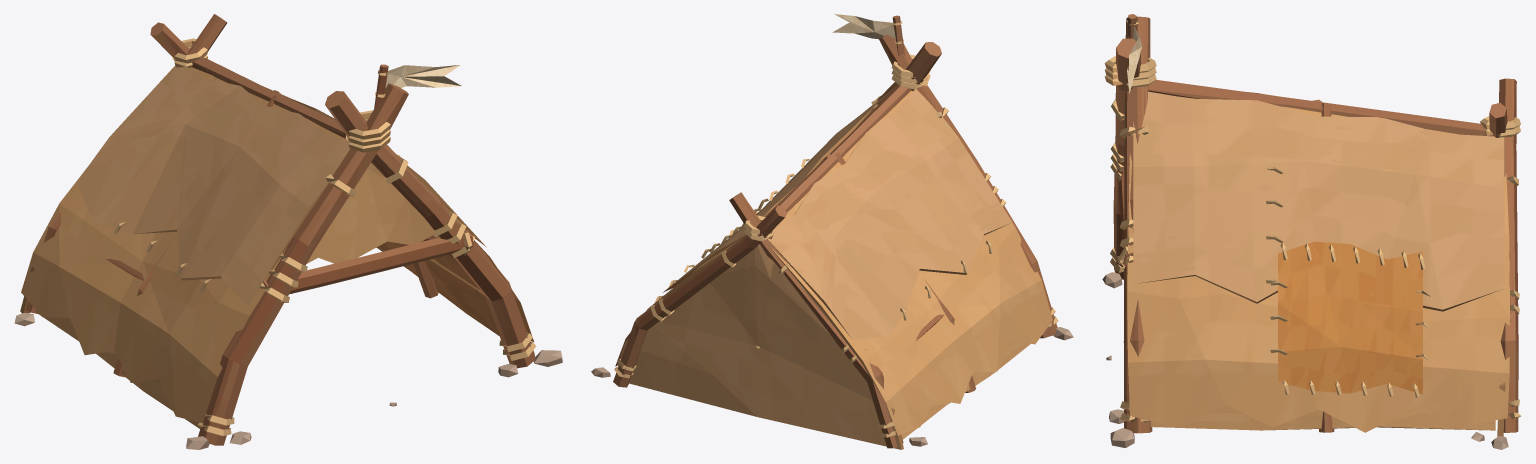
File: Prehistoric_Ochre_Clan_Tent.glb
3 views of the same model, side by side, from view 1: azimuth 30°, elevation 25°; view 2: azimuth 150°, elevation 25°; view 3: azimuth 270°, elevation 25° (orthographic). The views are drawn at different scales.
Parts seen in each view (by area): view 1: Prehistoric Ochre Clan Tent; view 2: Prehistoric Ochre Clan Tent; view 3: Prehistoric Ochre Clan Tent.
Part boxes in pixels (left/top/right/bottom): Prehistoric Ochre Clan Tent: left=14, top=14, right=562, bottom=449; Prehistoric Ochre Clan Tent: left=591, top=14, right=1073, bottom=449; Prehistoric Ochre Clan Tent: left=1102, top=14, right=1521, bottom=449.
Bounding box in the file's own units: 5.47 × 4.57 × 4.99.
2 materials, 2 textured.
